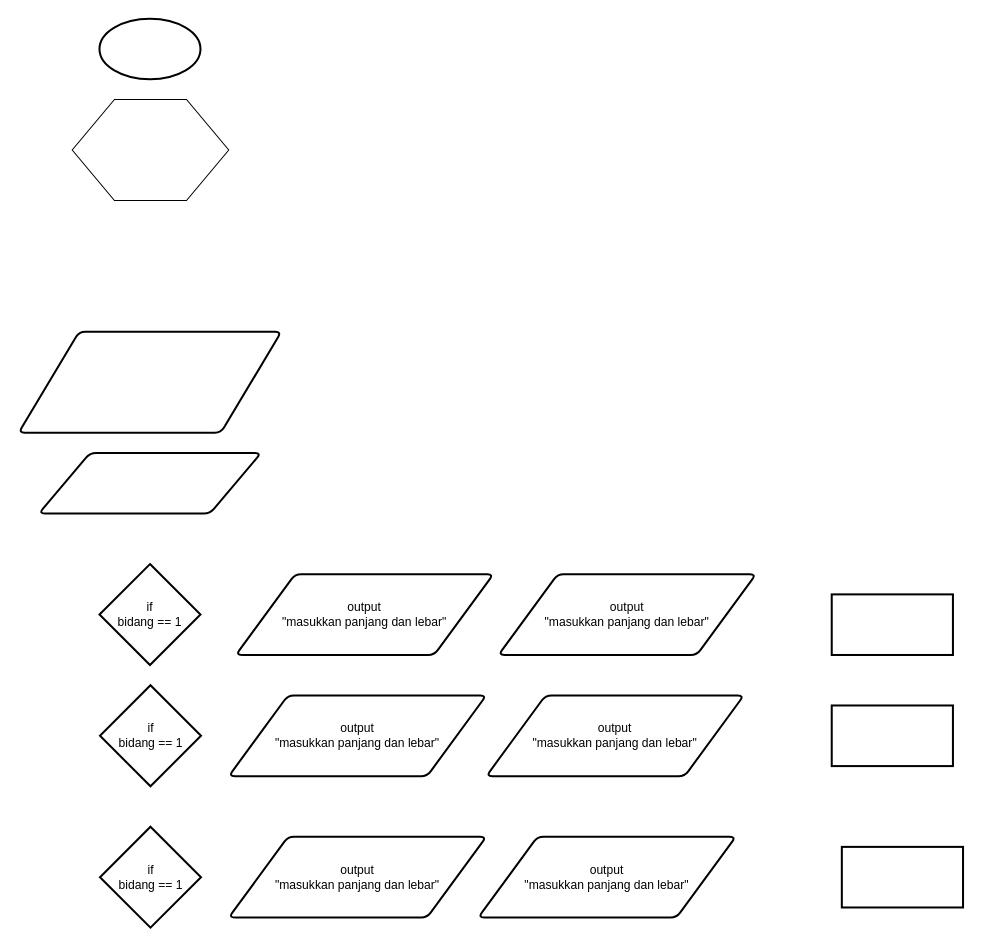
The diagram is 981 pixels wide and 945 high, and some of its shapes have lost their labels. The shapes that lost their labels are listed below. From the top down, each one's box as (x1, y1, x2, y2) in pixels, then its label:
(17, 330, 282, 433): output " pilih yang dihitung? 1.persegi 2.segitiga 3.lingkaran"
(37, 451, 262, 514): input bidang
